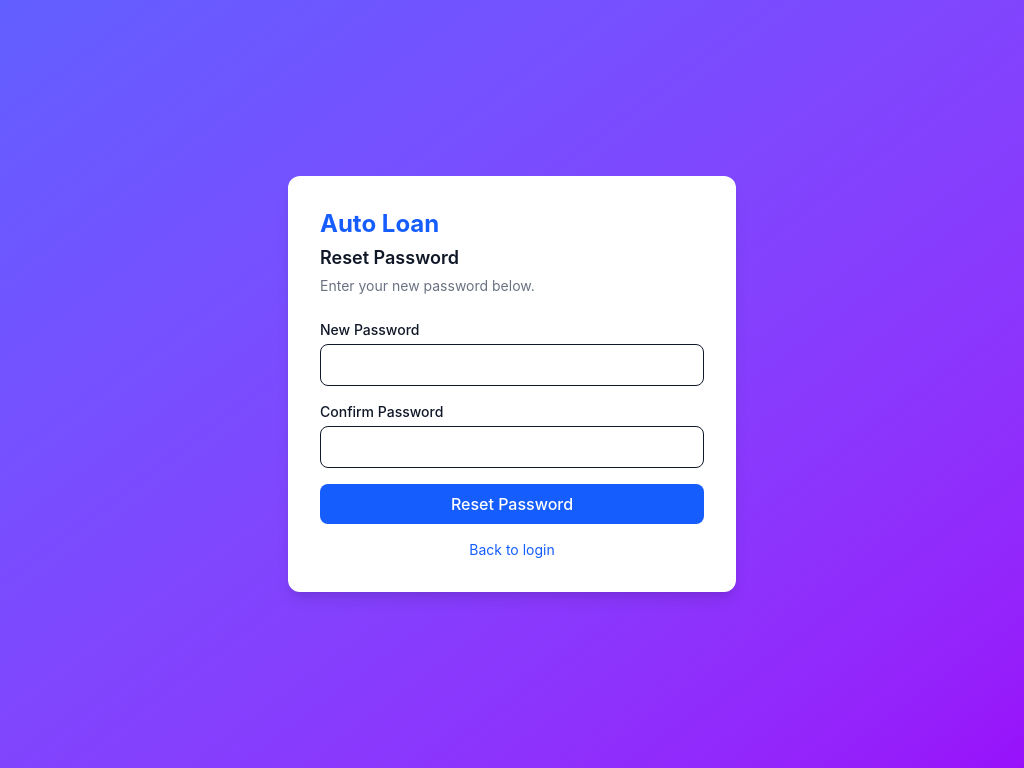
Test: ResetPasswordPage › shows error when passwords do not match
The image size is (1024, 768).
Type "abcdef" into the password field labelled "New Password". click: (512, 365)
box: [320,344,704,386]
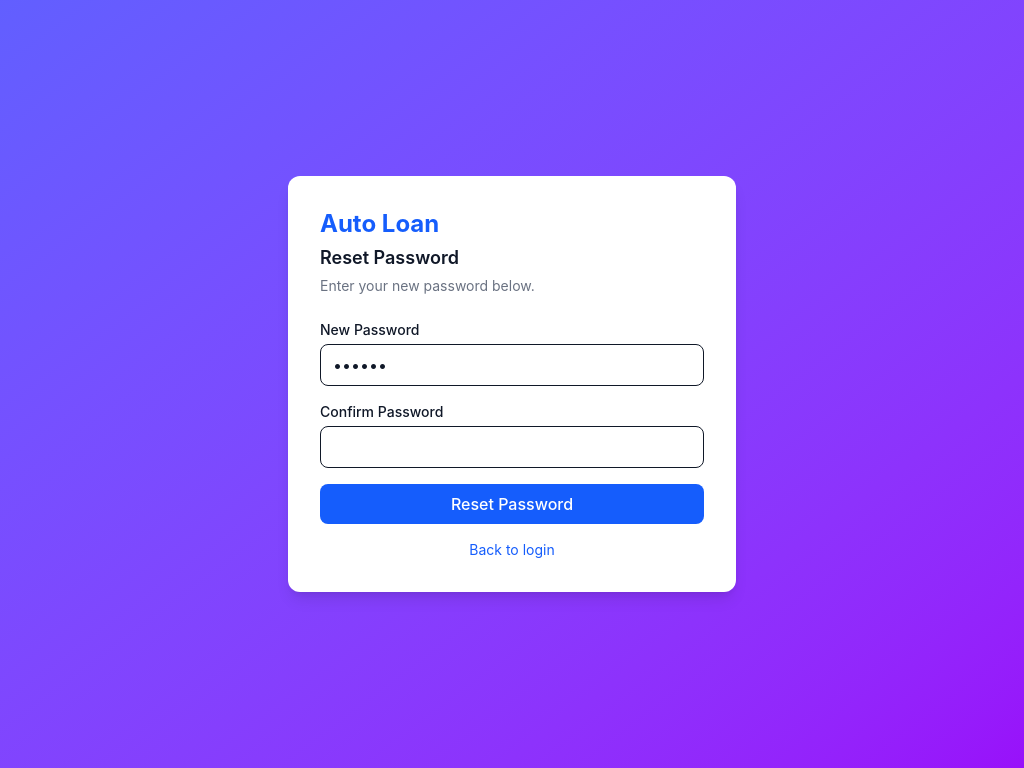
Type "ghijkl" into the password field labelled "Confirm Password". click: (512, 447)
box: [320,426,704,468]
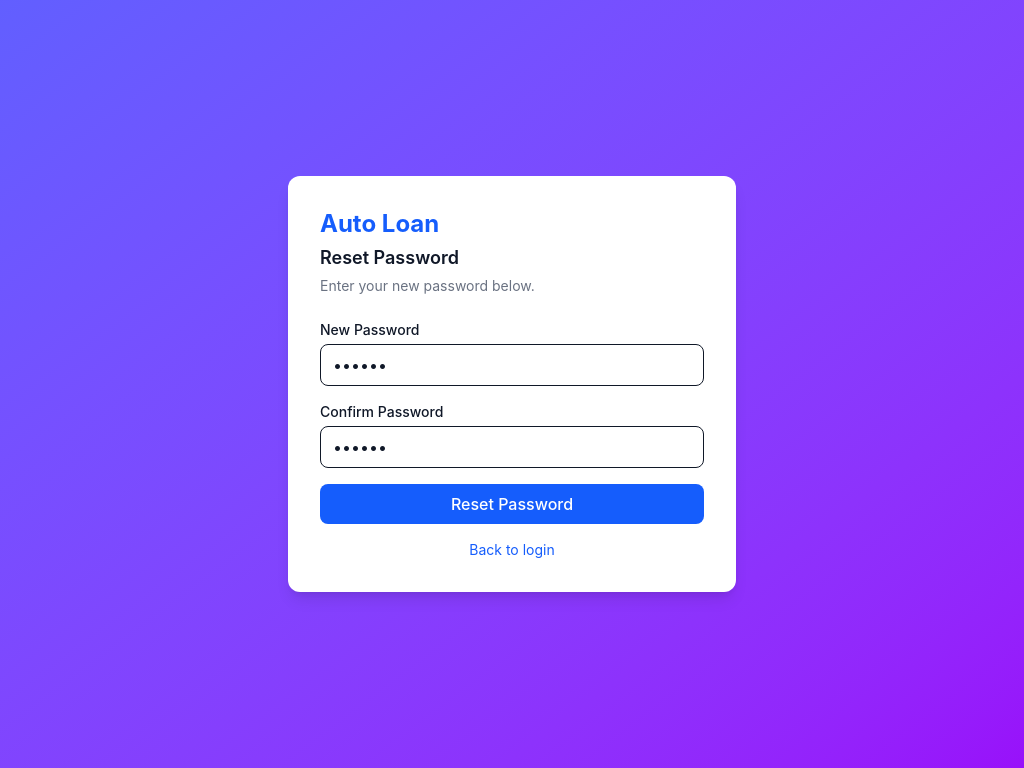
Click the button "Reset Password". click: (512, 504)
box: [320,484,704,524]
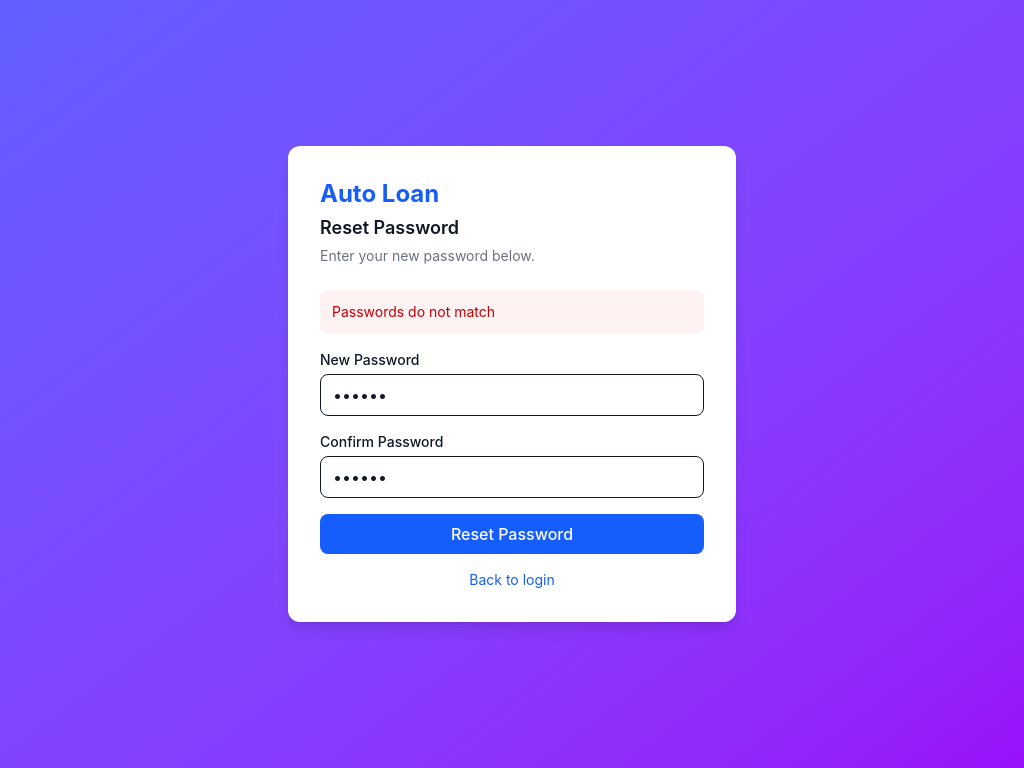
Check: the message reads "Passwords do not match", box [332,303,495,320]
